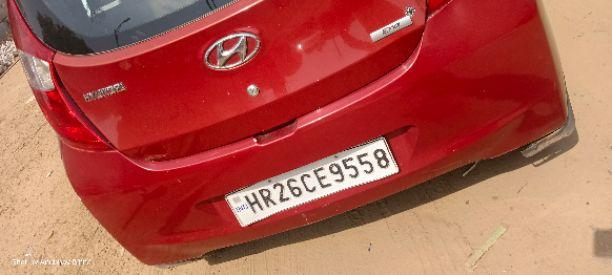license_plate: (9, 0, 571, 264), (223, 135, 400, 227)
